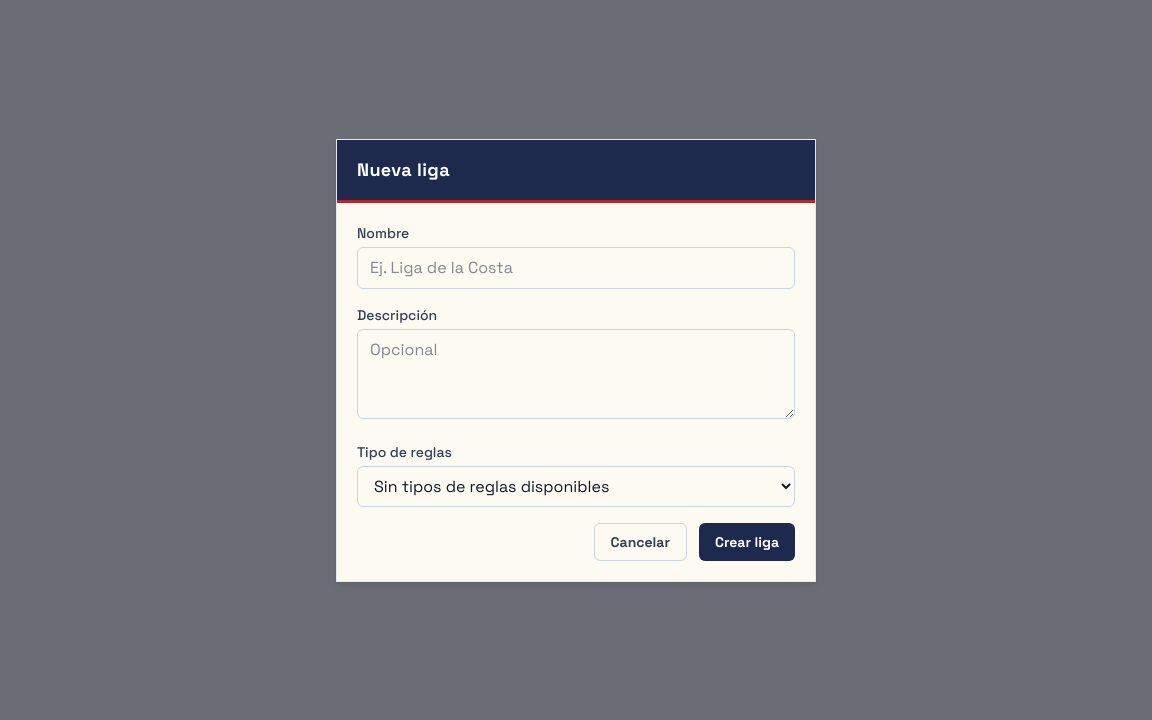
Test case: CreateLeagueModal › requires a name before submitting
Click the button "Crear liga" at (747, 542), box [699,522,795,560]
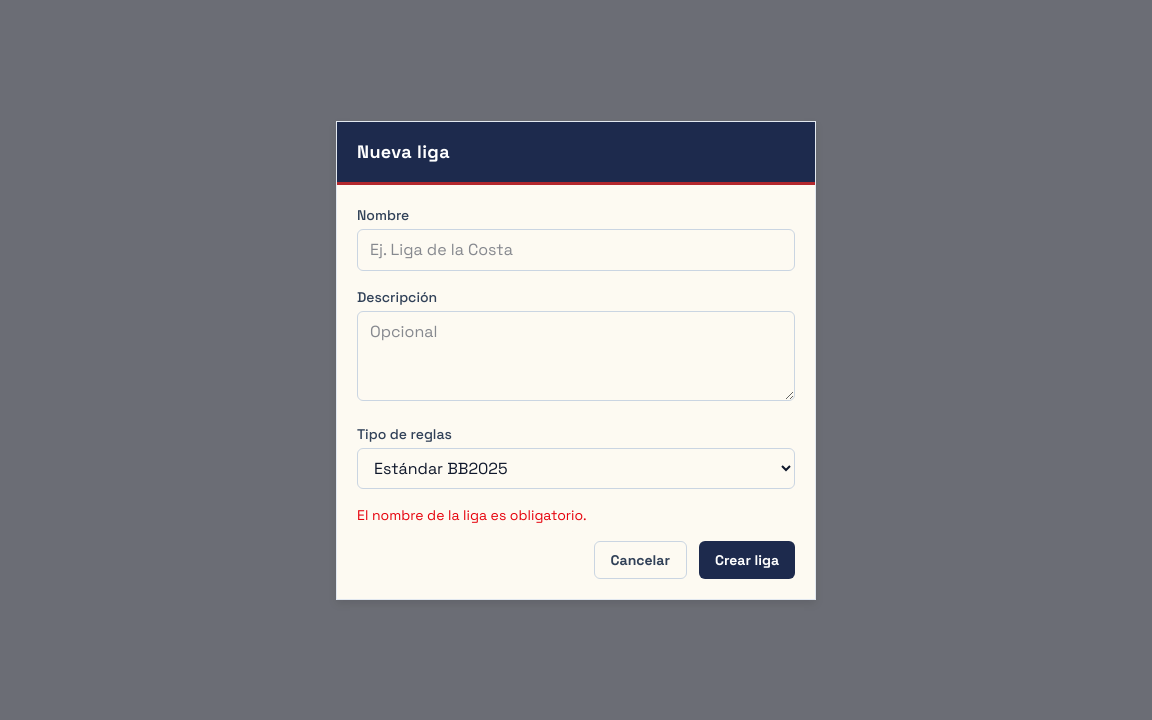
Expected: the dialog "Nueva liga" is shown, [336,120,816,600]
Result: the message reads "El nombre de la liga es obligatorio." at [357,506,587,524]
